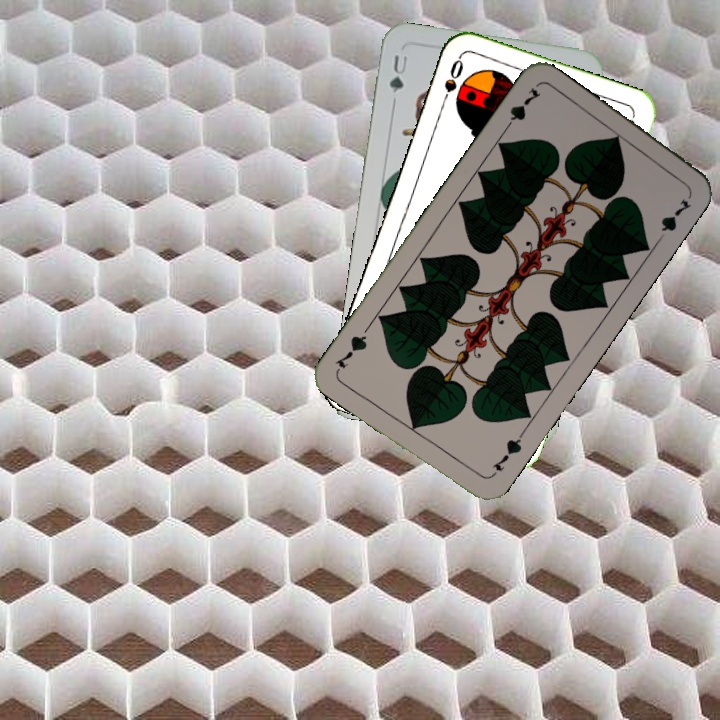G7: (499, 83, 544, 135), (486, 429, 526, 480)
GU: (385, 51, 411, 96)
SO: (436, 54, 466, 111)
